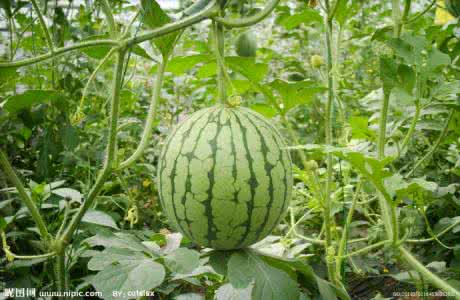watermelon: (155, 95, 290, 252)
